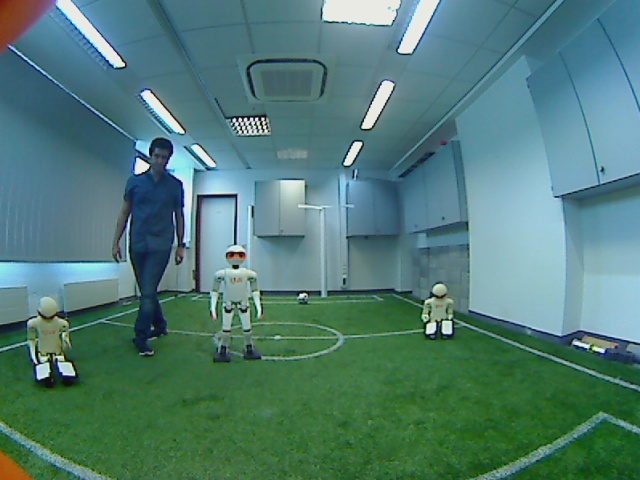ball: (293, 289, 315, 309)
robot: (201, 243, 270, 366), (19, 291, 88, 387), (413, 281, 461, 347)
